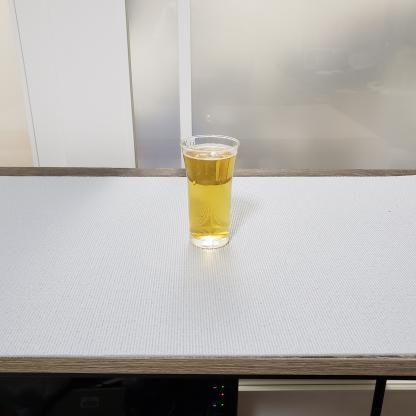glass: (176, 134, 249, 263)
